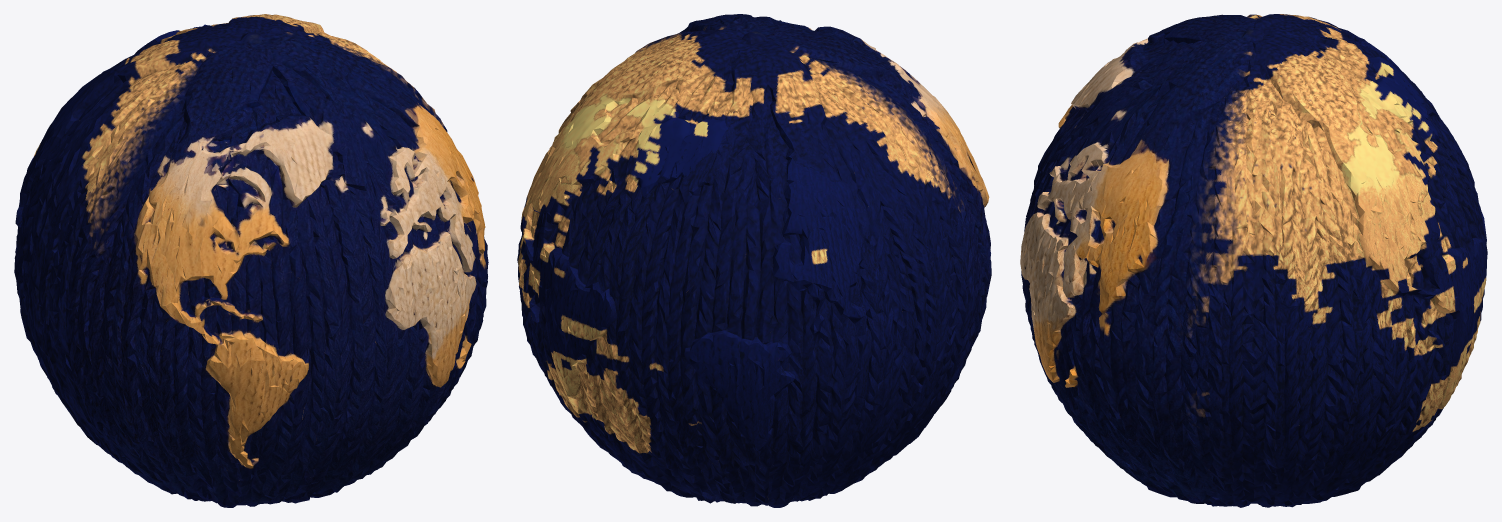
The model's file is knitted-globe.glb.
The picture shows the model from 3 angles, left to right: view 1: azimuth 30°, elevation 25°; view 2: azimuth 150°, elevation 25°; view 3: azimuth 270°, elevation 25°; orthographic projection.
Parts seen in each view (by area): view 1: Mesh_0; view 2: Mesh_0; view 3: Mesh_0.
Part boxes in pixels (x1,y1,x2,y2): Mesh_0: (14, 14, 488, 507); Mesh_0: (517, 14, 991, 507); Mesh_0: (1020, 14, 1487, 507).
Size of the model in its own units: 1.84 by 1.9 by 1.83.
Materials: 1 (1 with a texture image).
